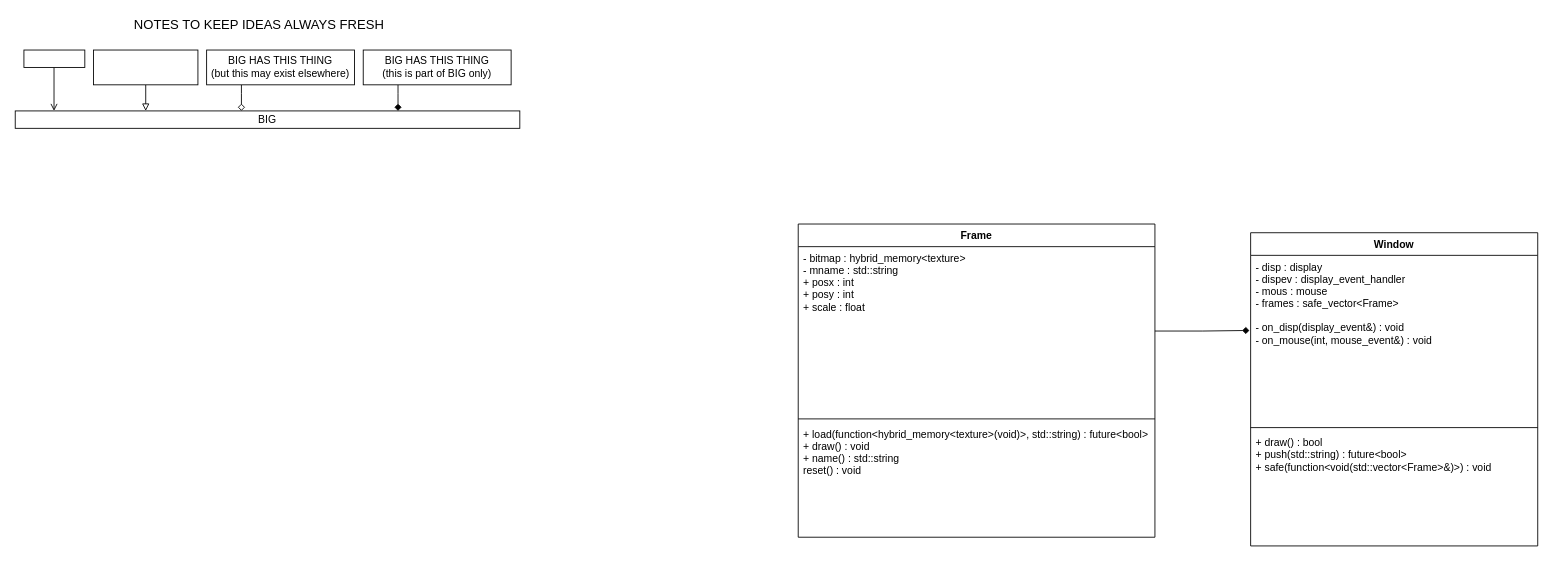
The diagram is 1553 pixels wide and 563 high, and some of its shapes have lost their labels. The centre of each missing label's shape, as x and y in pixels:
DERIVED OF BIG (this is a kind of BIG): (145,67)
USES BIG: (54,58)
